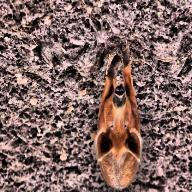boar: (92, 43, 142, 189)
